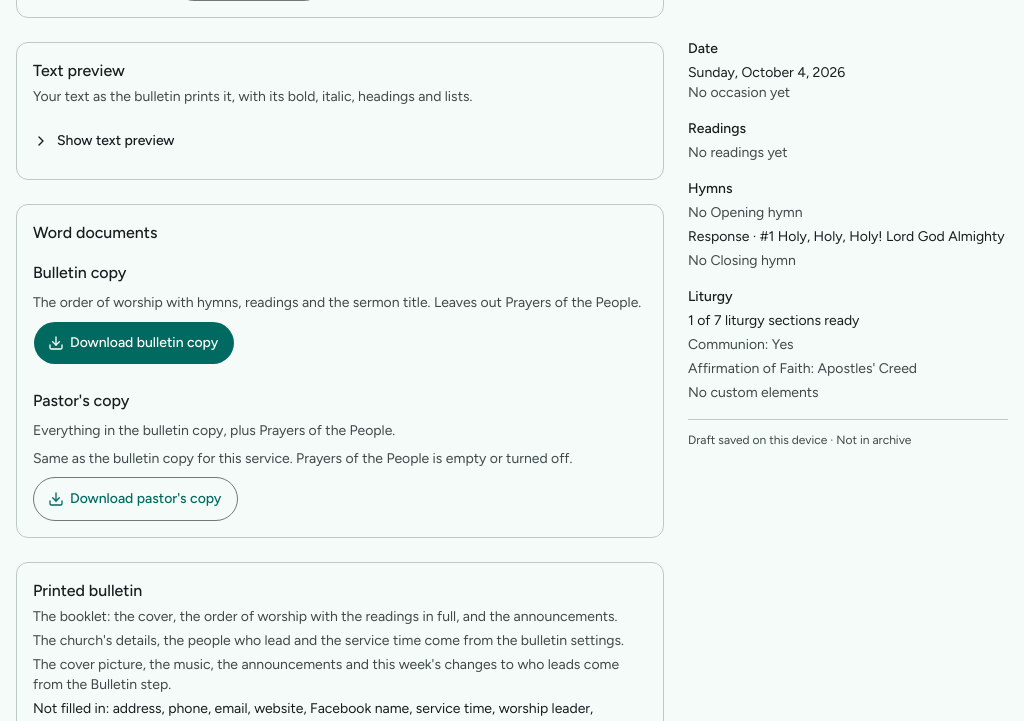
Test: Review & send: the Word documents (slice 5a-1) › shows the server's message when a download fails, and saves no file
(page scrolled)
Click the button "Download bulletin copy": (134, 343) [33,321,235,365]
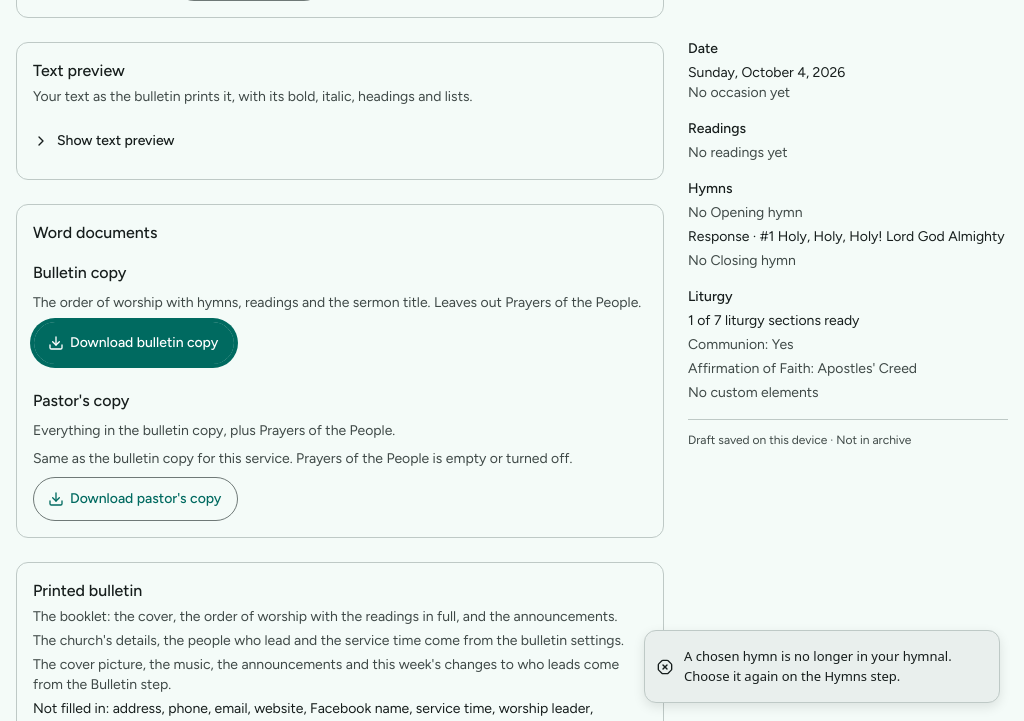
expect the text "A chosen hymn is no longer in your hymnal. Choose it again on the Hymns step." is shown: met, box [684,647,983,686]
